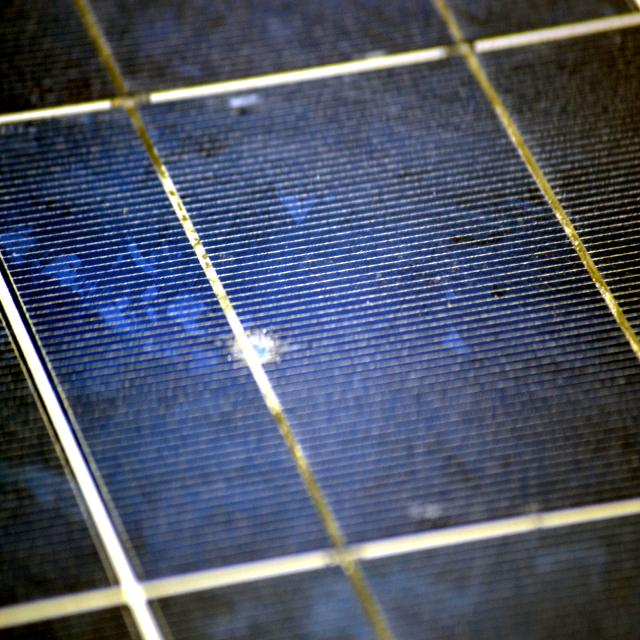shadow: (207, 304, 326, 422)
